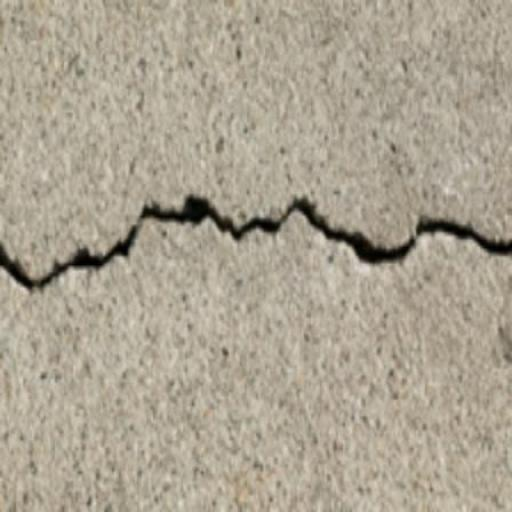spalling: (0, 188, 509, 304)
